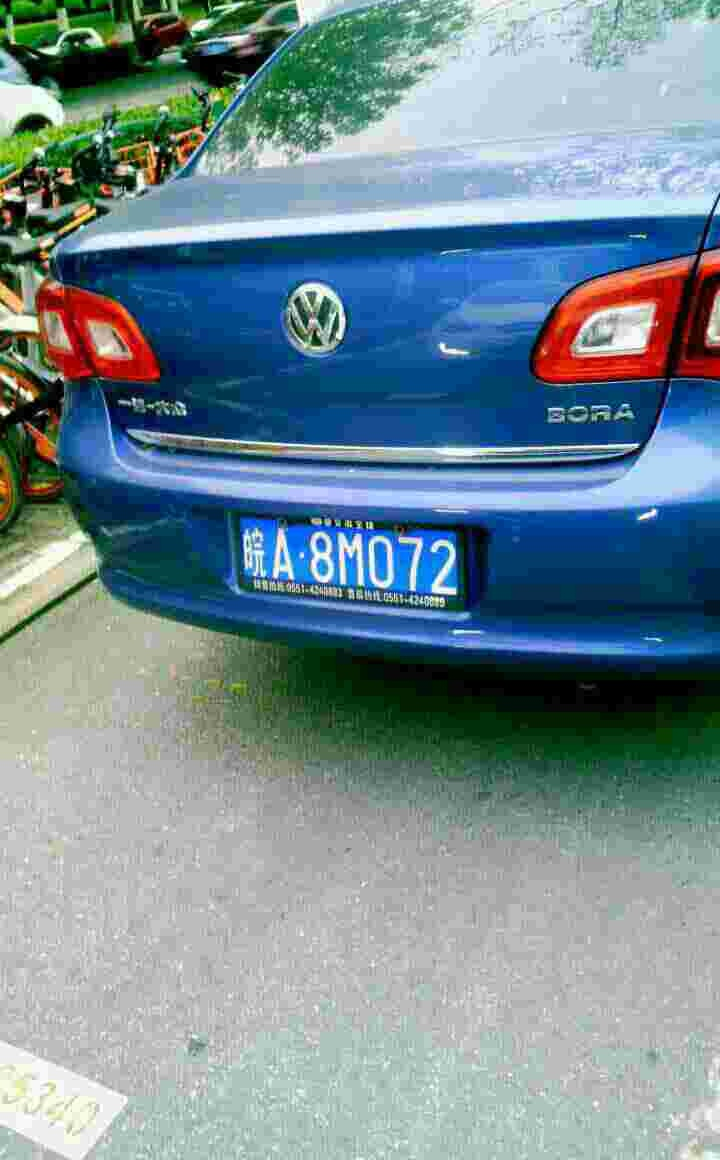license_plate: (233, 513, 479, 607)
